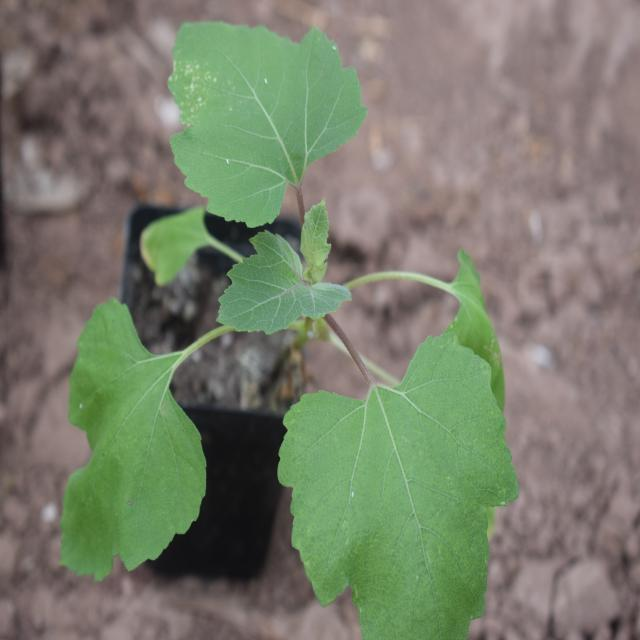cocklebur: (70, 23, 518, 629)
